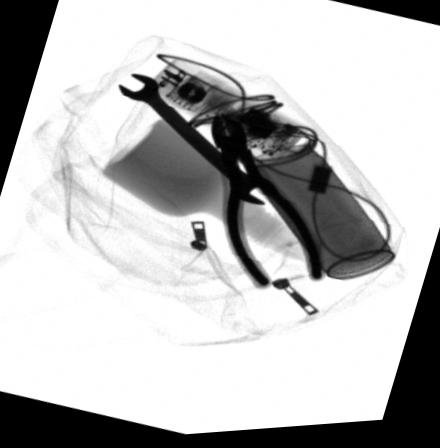Pliers: (207, 111, 324, 293)
Wrench: (117, 74, 274, 208)
